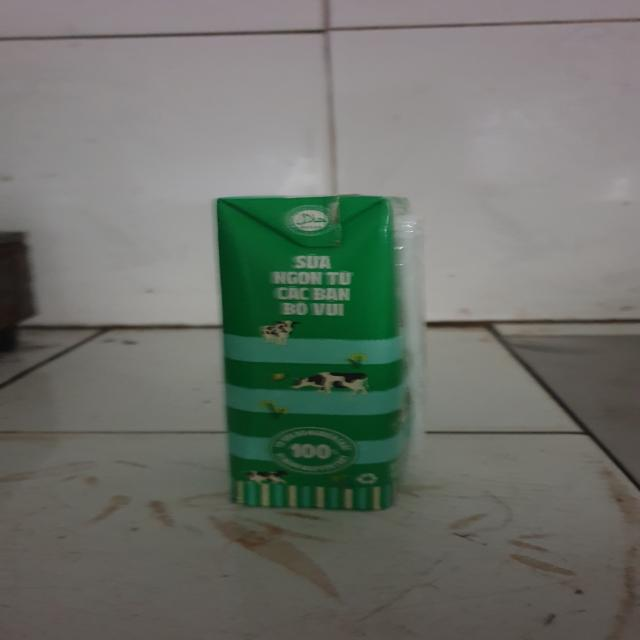Vina: (216, 195, 422, 512)
